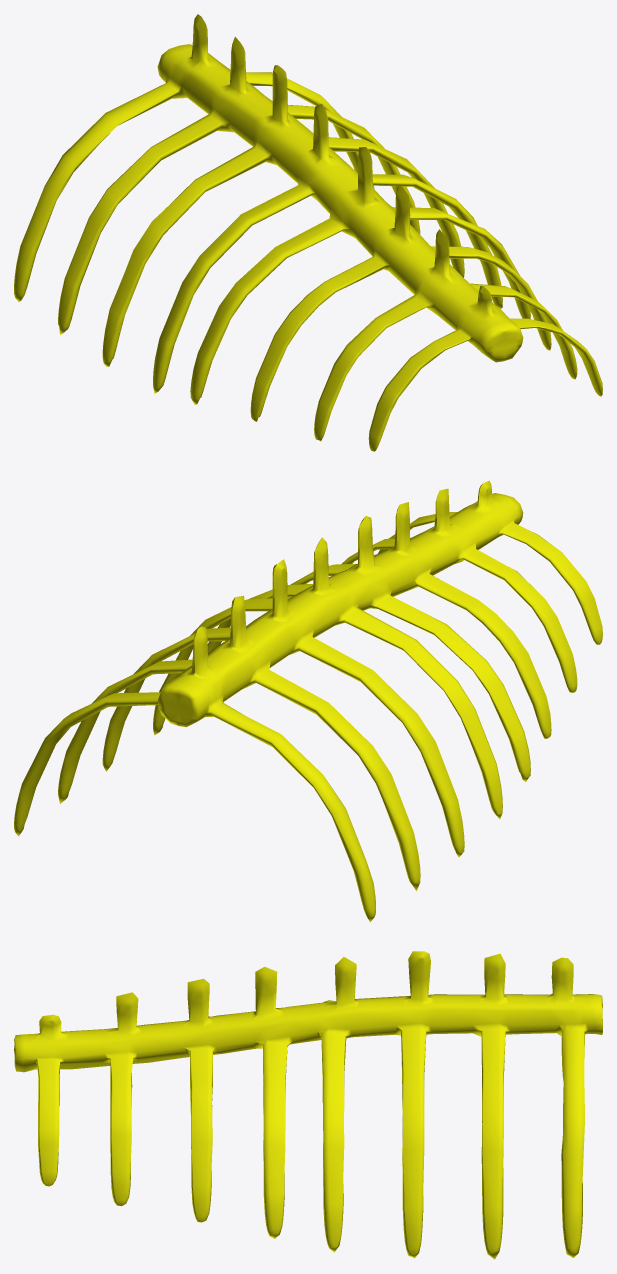
File: BonesLow.fbx
The picture shows the model from 3 angles, top to bottom: view 1: azimuth 30°, elevation 25°; view 2: azimuth 150°, elevation 25°; view 3: azimuth 270°, elevation 25°; orthographic projection. The views are drawn at different scales.
Parts seen in each view (by area): view 1: BonesLow1; view 2: BonesLow1; view 3: BonesLow1.
Boxes of the visible parts, x1,y1,x2,y2 form: BonesLow1: (14,14,602,451); BonesLow1: (14,480,602,922); BonesLow1: (14,951,602,1259).
Bounding box in the file's own units: 1.31 × 0.8876 × 2.06.
